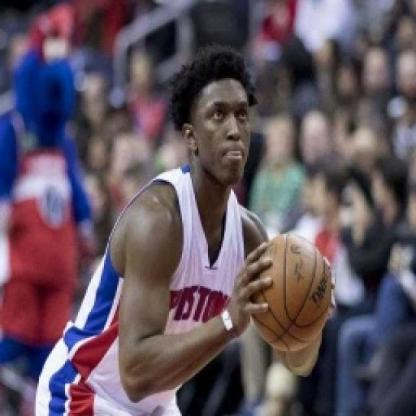basketball: (249, 231, 339, 357)
